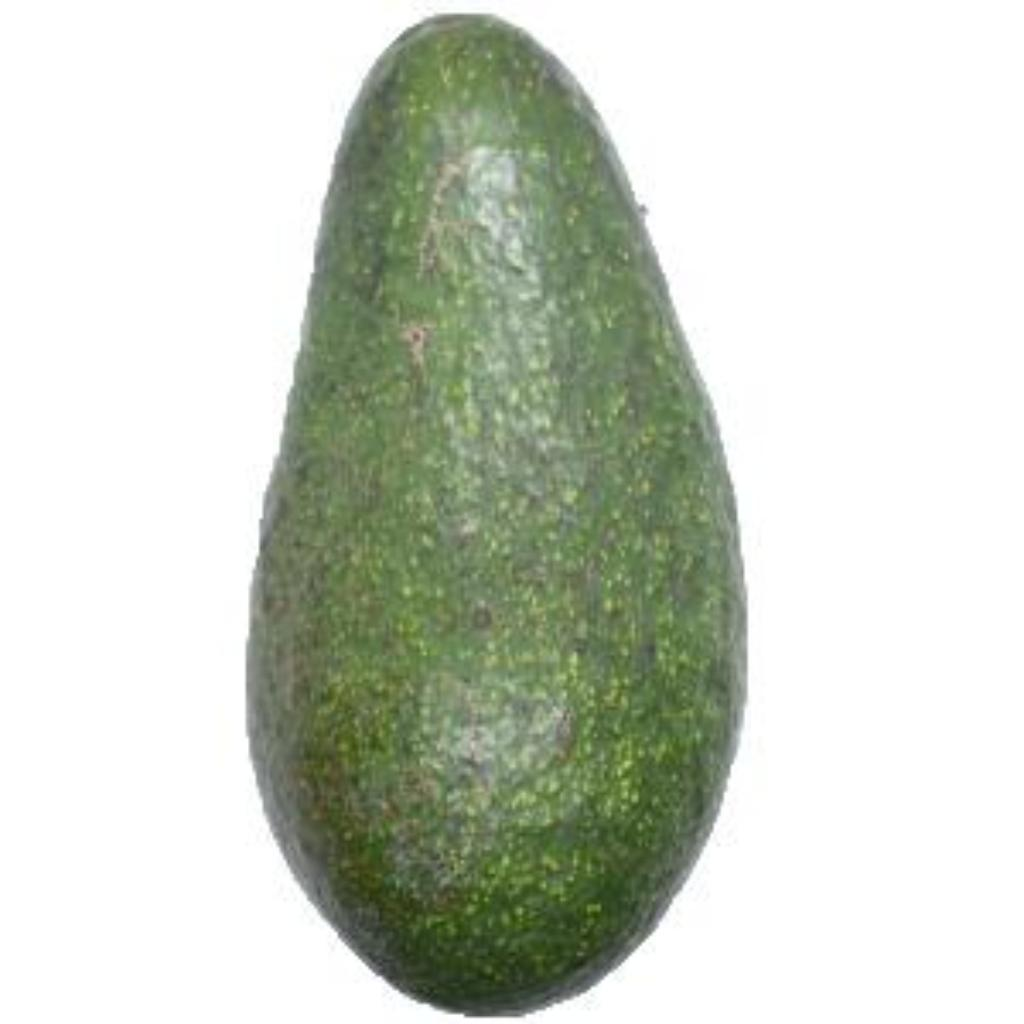cercospora_spot: (171, 2, 867, 1008)
